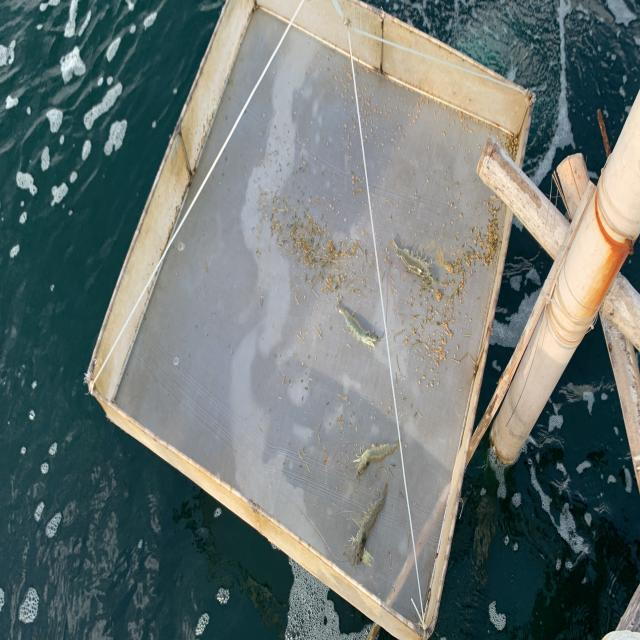Shrimp feeds: (347, 71, 352, 80), (364, 109, 370, 115), (441, 131, 446, 137), (413, 118, 416, 123), (452, 120, 455, 125), (416, 114, 419, 118), (408, 113, 412, 116), (388, 96, 391, 100), (417, 102, 419, 108), (433, 111, 436, 115), (409, 121, 411, 126), (393, 85, 395, 90), (391, 138, 394, 141), (396, 110, 399, 113), (390, 109, 393, 112), (427, 178, 429, 182), (399, 125, 401, 129), (374, 108, 376, 112), (380, 111, 382, 114), (448, 115, 450, 117)
